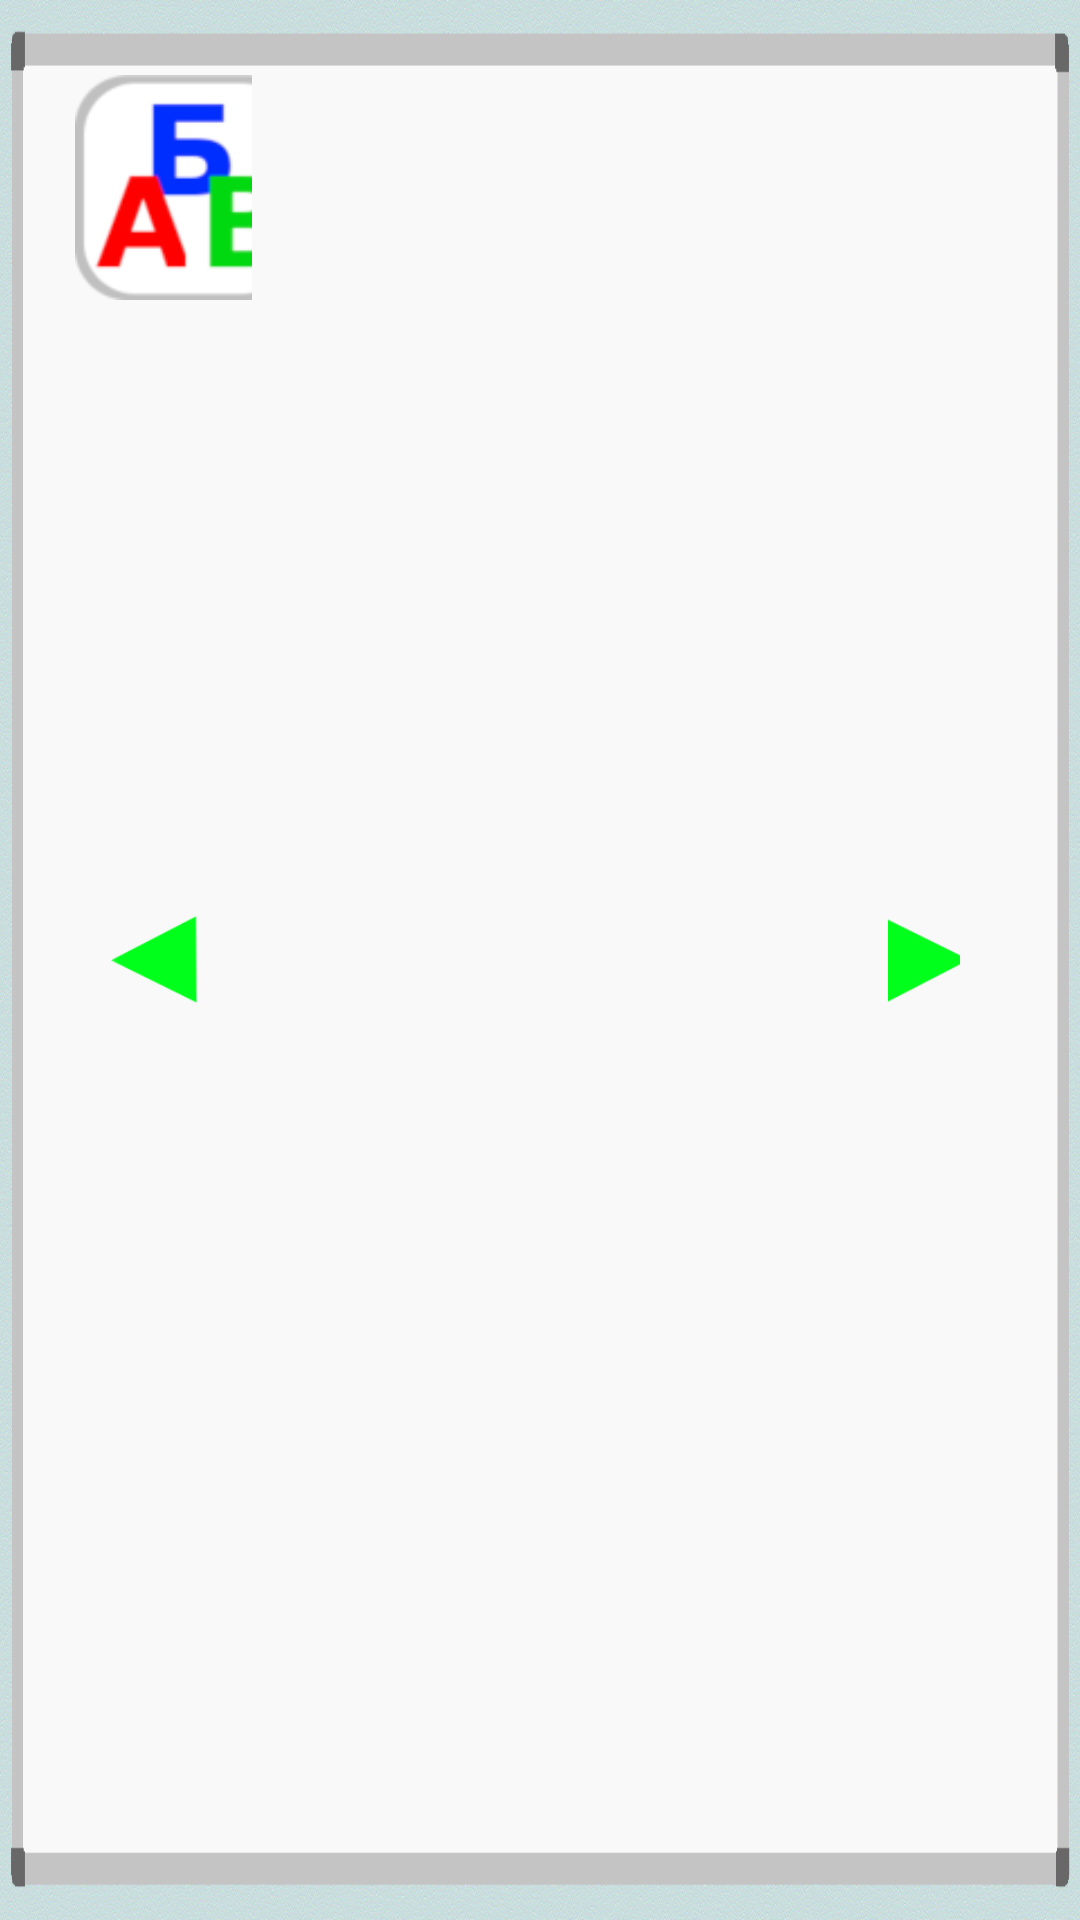

Icons on this 1080x1920 Android screen, each with the point to tap as (x=x, y=y):
back: (x=154, y=959)
forward: (x=924, y=960)
